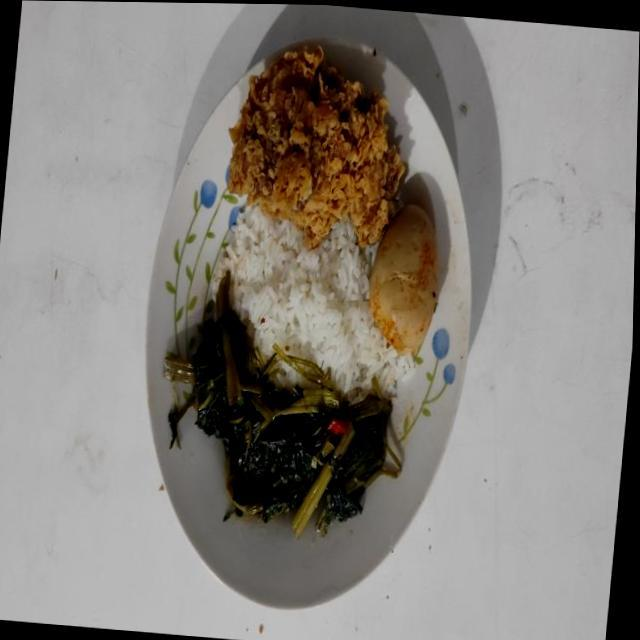nasi_putih: (216, 205, 414, 404)
tumis_kangkung: (163, 270, 400, 537)
